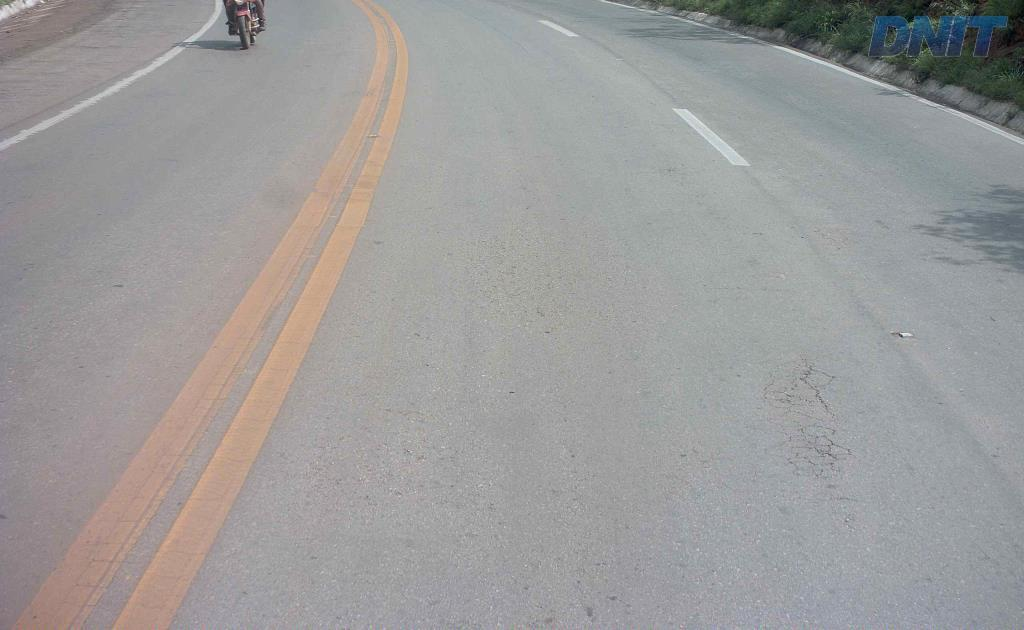crack: (805, 434, 840, 460)
